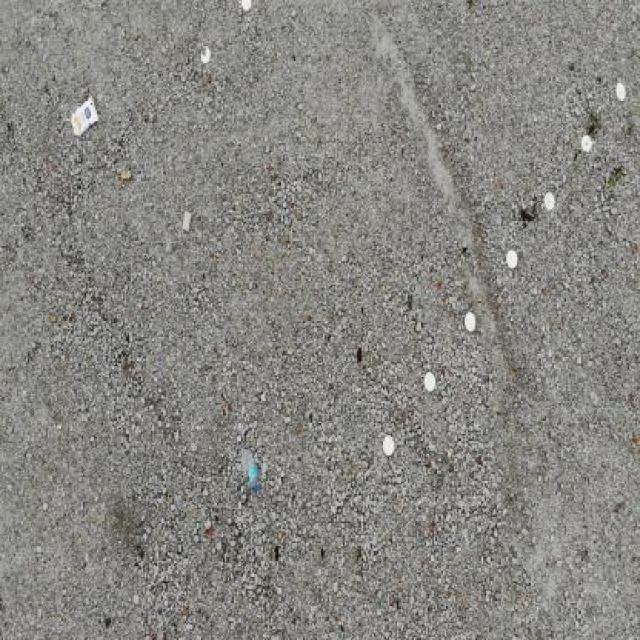Garbage: (71, 93, 98, 137), (239, 443, 258, 492), (180, 211, 192, 235)
